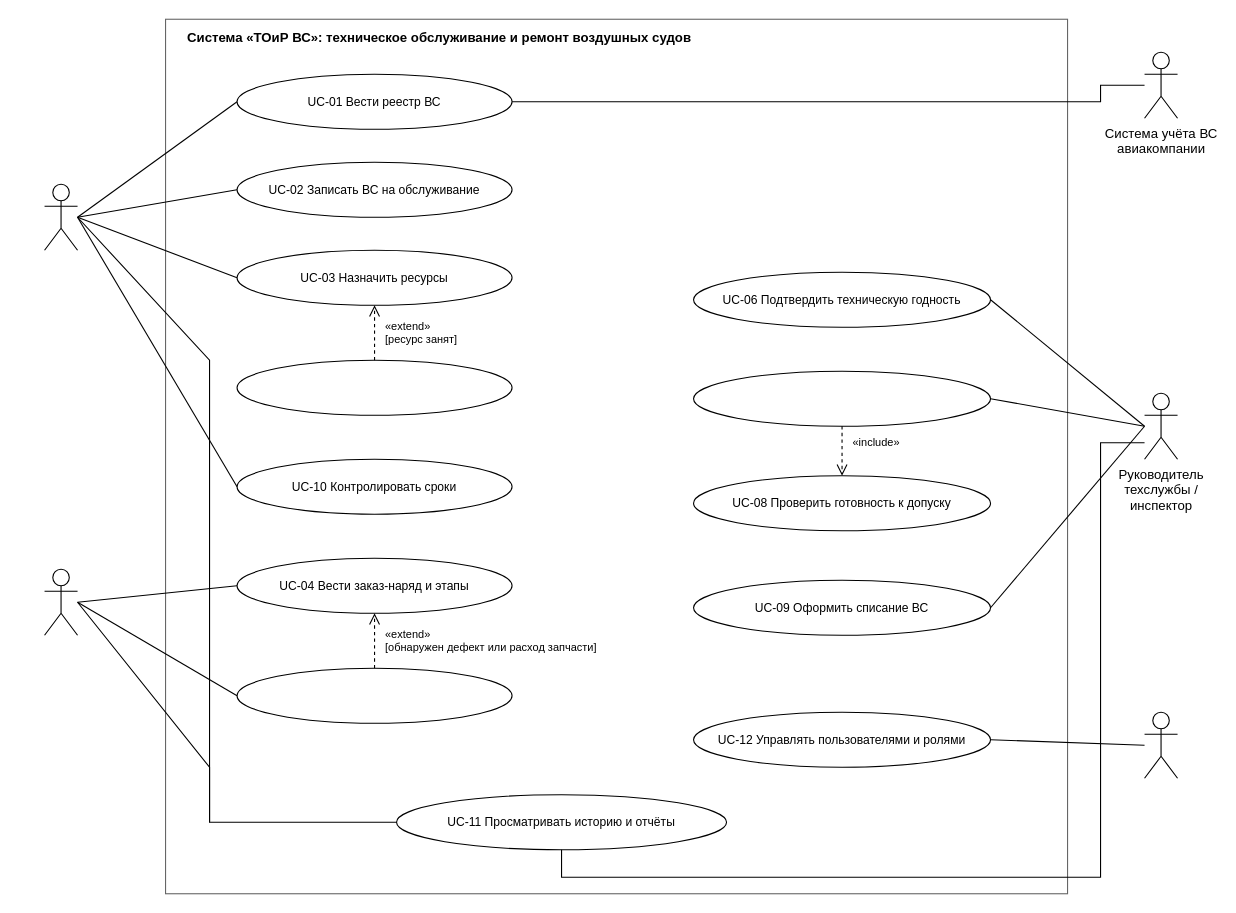
Image size: 1236x913. Some labels were removed from this diagram. The shapes that lost their labels are listed below. From the top down, each one's centre as x and y in pixels, then its label:
At [60,216]: "Планировщик".
At [374,387]: "UC-13 Перевести заявку в ожидание ресурсов".
At [841,398]: "UC-07 Допустить ВС к эксплуатации".
At [60,601]: "Техник".
At [374,695]: "UC-05 Зафиксировать дефект и запчасти".
At [1160,744]: "Администратор".
